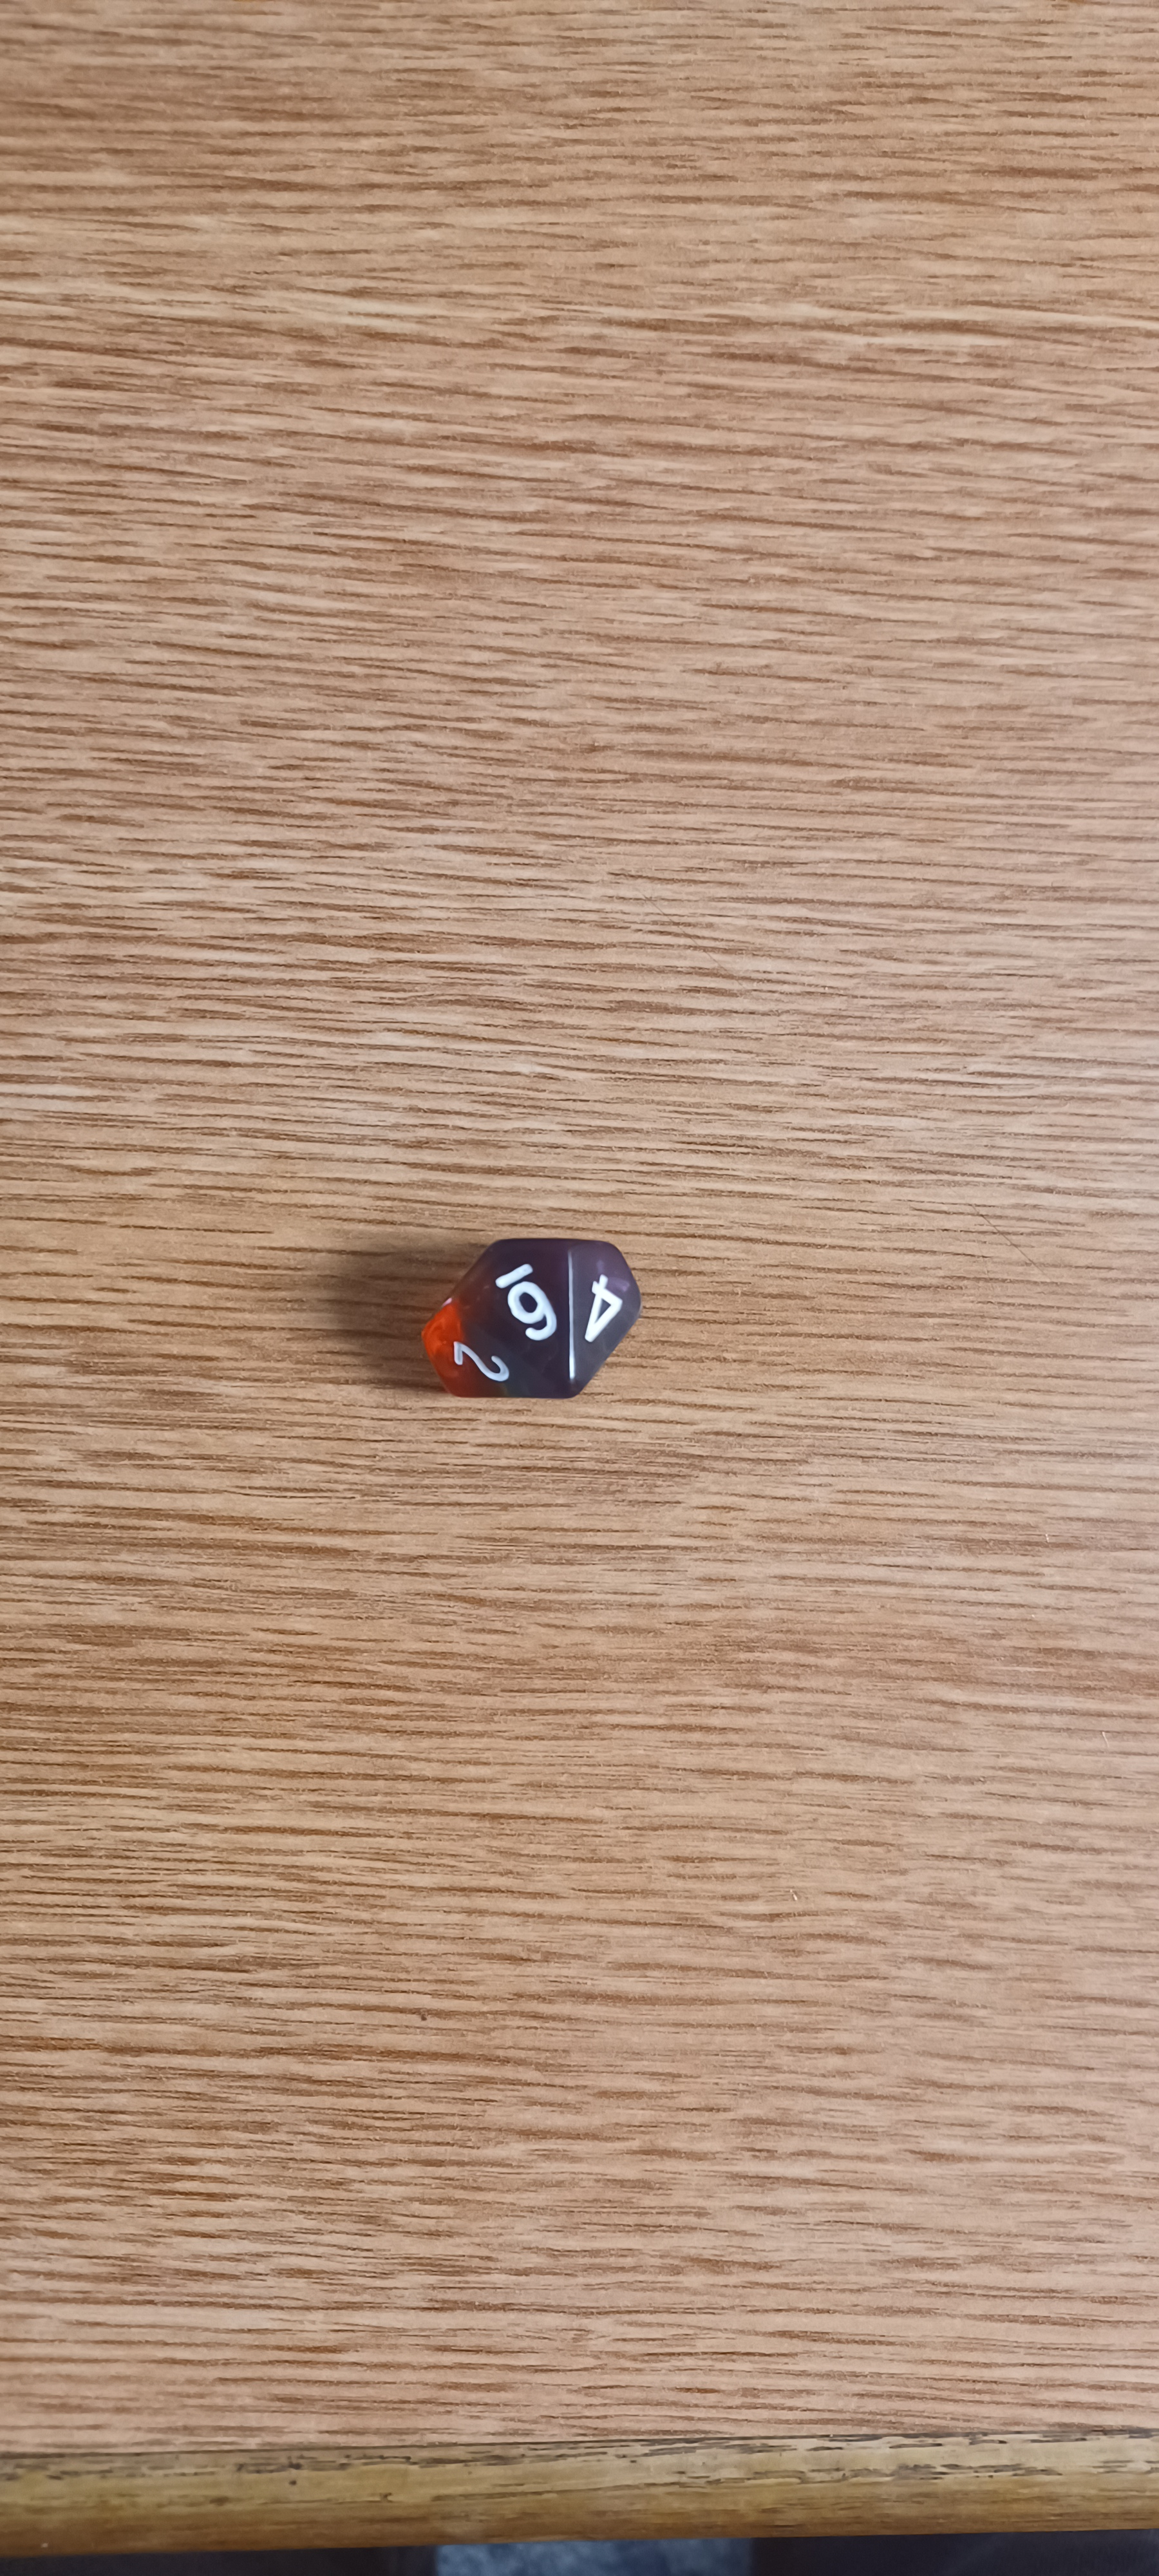six: (361, 1198, 706, 1447)
